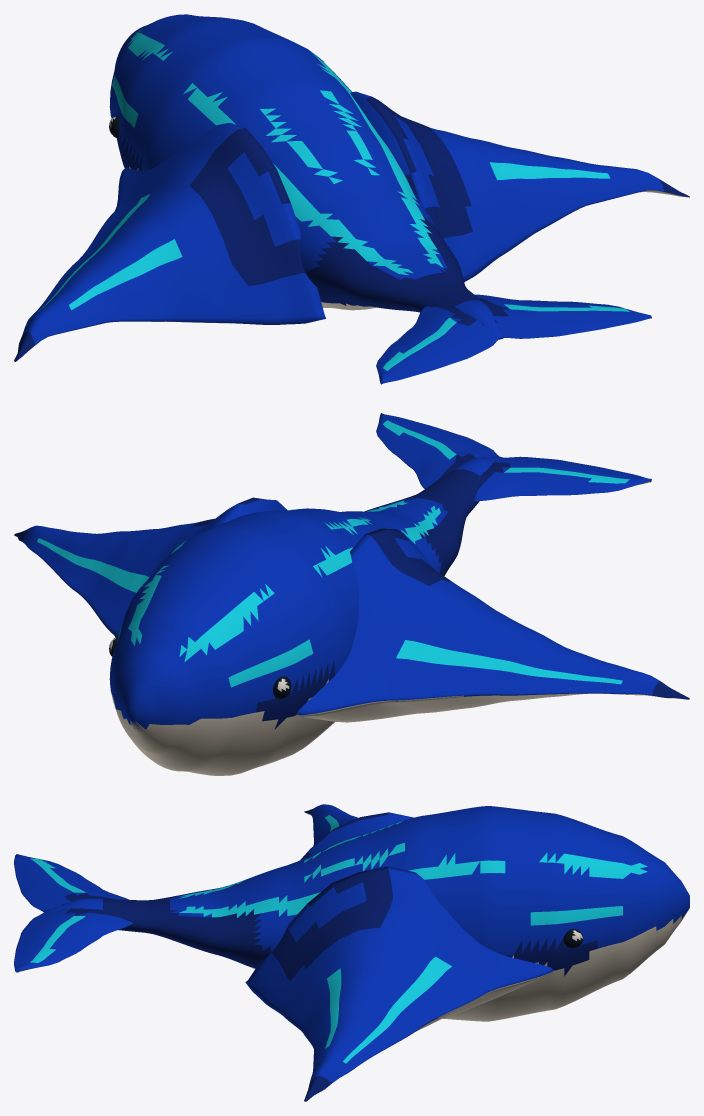
3 renders of one model, top to bottom at view 1: azimuth 30°, elevation 25°; view 2: azimuth 150°, elevation 25°; view 3: azimuth 270°, elevation 25°, orthographic. The views are drawn at different scales.
Size of the model in its own units: 2.02 by 0.653 by 2.
